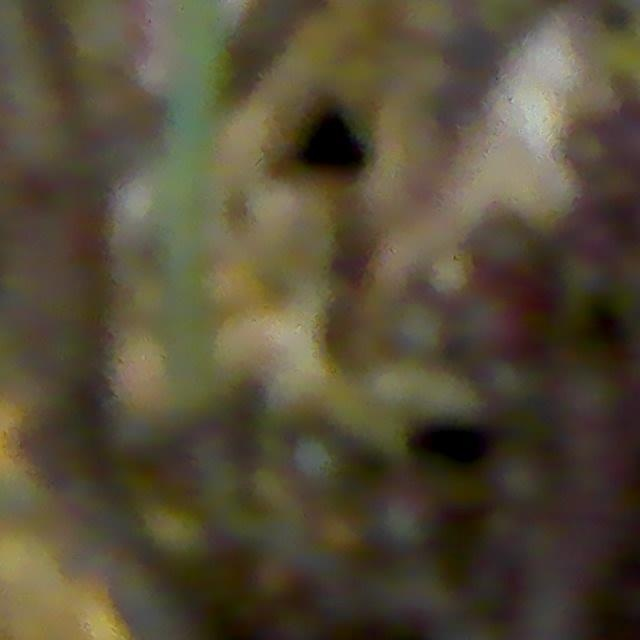SeaGrape: (367, 483, 447, 561), (458, 211, 541, 278), (276, 425, 354, 493), (557, 364, 623, 429), (488, 446, 550, 507), (557, 109, 611, 174)
